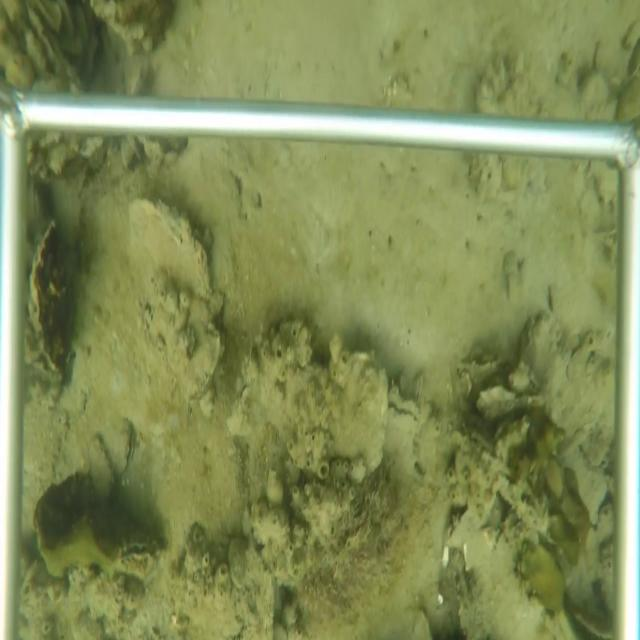Oyster-Closed: (28, 215, 67, 385), (28, 4, 83, 91), (413, 374, 424, 409)
Oyster-Indeterminate: (128, 188, 219, 310), (141, 285, 223, 410)
Oyster-Open: (115, 529, 161, 588)
